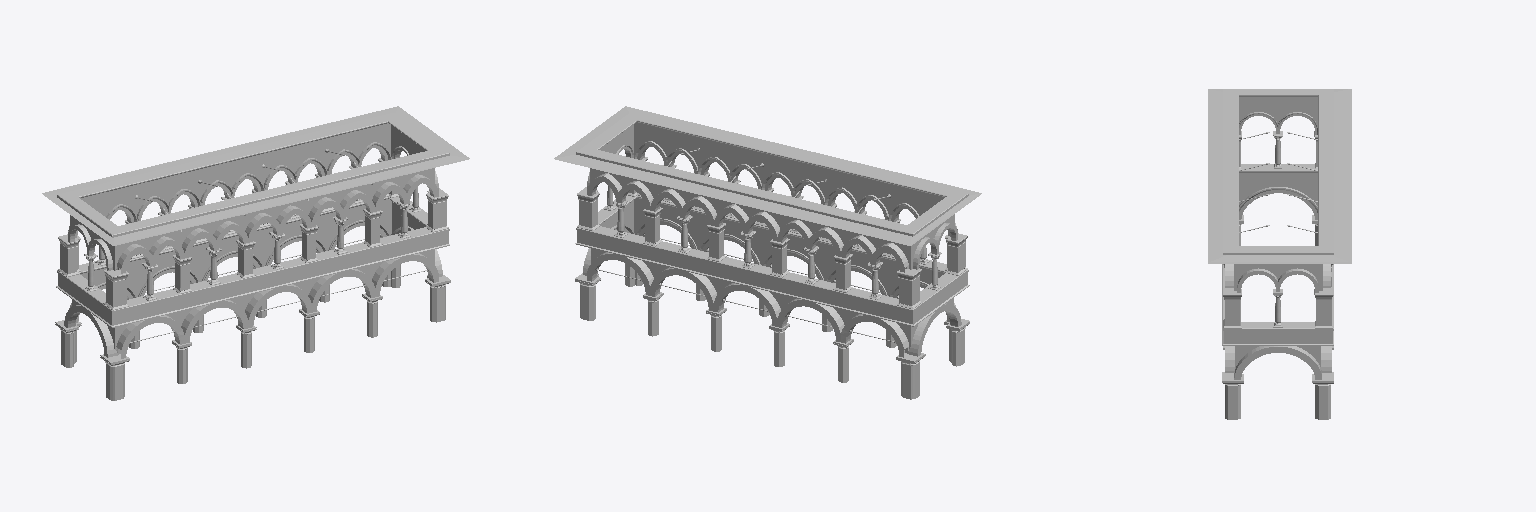
Rendered from sponza_basic.obj.
3 views of the same model, side by side, from view 1: azimuth 30°, elevation 25°; view 2: azimuth 150°, elevation 25°; view 3: azimuth 270°, elevation 25° (orthographic).
Visible parts, largest first — view 1: sponza3_sponza3.001; view 2: sponza3_sponza3.001; view 3: sponza3_sponza3.001.
Boxes of the visible parts, box(x1,y1,x2,y2) form: sponza3_sponza3.001: box(42, 106, 469, 400); sponza3_sponza3.001: box(554, 106, 981, 399); sponza3_sponza3.001: box(1208, 89, 1351, 419).
Bounding box in the file's own units: 25.01 × 11.19 × 8.72.